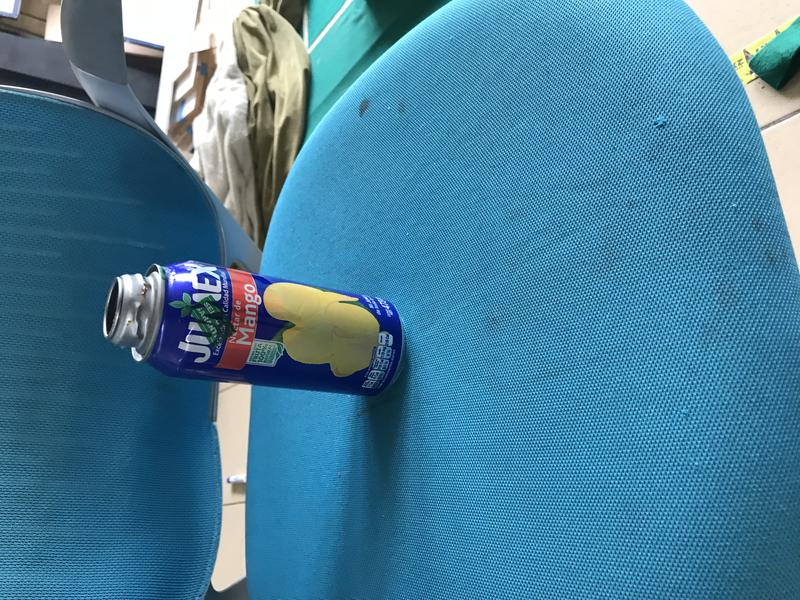jumex_botella: (101, 261, 407, 398)
